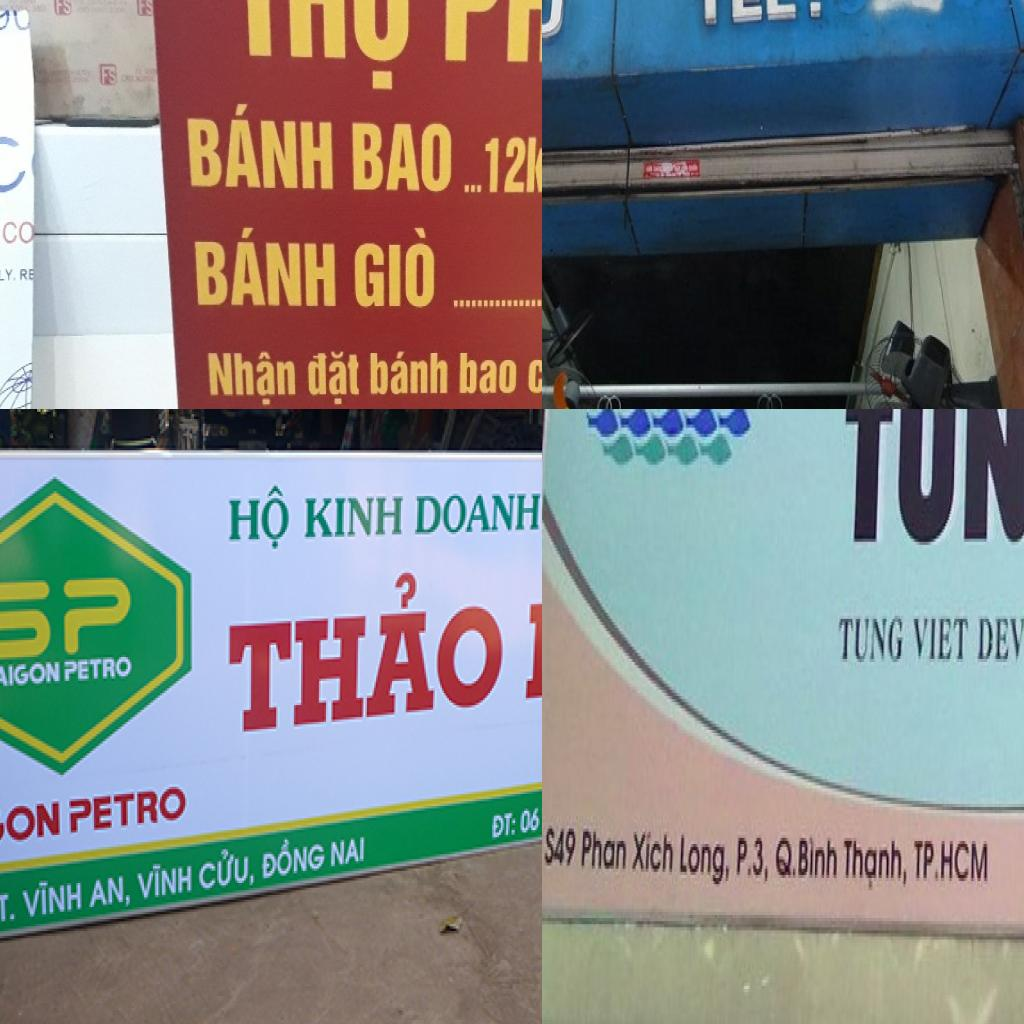text: (226, 563, 510, 741), (837, 409, 1024, 554), (226, 0, 410, 94), (183, 96, 336, 195), (192, 223, 338, 309), (0, 575, 133, 666), (349, 121, 452, 198), (350, 226, 436, 312), (68, 782, 190, 840), (415, 491, 542, 539), (207, 347, 297, 409), (226, 479, 294, 556), (303, 494, 406, 542), (368, 348, 450, 402), (480, 134, 542, 203), (842, 835, 910, 896), (837, 613, 906, 671), (0, 799, 64, 859), (302, 347, 363, 409), (260, 832, 326, 886), (910, 613, 971, 668), (677, 832, 732, 893), (198, 844, 256, 900), (19, 876, 85, 924), (456, 350, 518, 399), (975, 609, 1024, 671), (135, 859, 196, 905), (580, 825, 630, 878), (940, 835, 990, 887), (630, 826, 676, 881), (796, 832, 840, 887), (62, 654, 135, 686), (0, 659, 62, 692), (87, 868, 133, 912), (542, 822, 580, 874), (912, 832, 941, 890), (330, 832, 367, 874), (775, 829, 798, 884), (518, 789, 542, 837), (0, 215, 34, 247), (523, 348, 542, 405), (490, 808, 519, 844), (735, 829, 753, 887), (752, 835, 770, 890), (0, 890, 19, 931), (99, 66, 118, 86), (0, 263, 16, 284), (18, 265, 36, 283), (54, 0, 73, 16), (136, 0, 155, 16)
